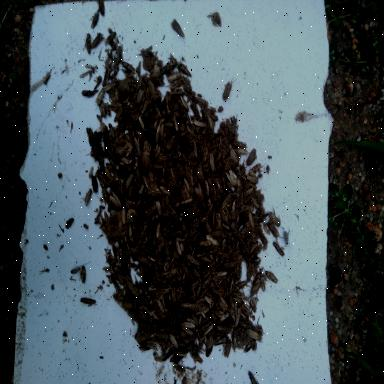pbw: (171, 19, 185, 38), (90, 33, 106, 49), (186, 311, 202, 327), (272, 239, 286, 257), (266, 220, 280, 238), (179, 321, 195, 335), (136, 254, 152, 268), (122, 57, 136, 73), (158, 284, 172, 300), (95, 88, 105, 110), (80, 188, 92, 206), (264, 271, 280, 284), (110, 192, 122, 209), (226, 170, 238, 187), (223, 156, 232, 178), (202, 322, 216, 336), (180, 335, 194, 349), (142, 228, 154, 244), (122, 300, 138, 312), (124, 250, 132, 274), (186, 254, 202, 266), (166, 78, 182, 90), (164, 195, 172, 218), (195, 212, 209, 225), (188, 221, 198, 239), (97, 168, 106, 188), (244, 328, 259, 340), (222, 339, 231, 359), (88, 11, 98, 29), (125, 171, 135, 189), (182, 76, 192, 94), (246, 148, 256, 166), (238, 158, 246, 180), (84, 32, 92, 54), (145, 340, 159, 352), (164, 267, 178, 279), (144, 204, 156, 218), (247, 170, 259, 184), (108, 158, 120, 172), (104, 31, 116, 45), (244, 338, 256, 352), (206, 234, 220, 246), (168, 333, 178, 349), (246, 262, 254, 282), (102, 67, 110, 87), (142, 138, 150, 158), (258, 230, 268, 246), (166, 135, 176, 151), (180, 95, 190, 111), (251, 163, 267, 173), (202, 274, 212, 290), (239, 304, 252, 316), (122, 94, 135, 106), (195, 96, 208, 108), (168, 71, 182, 82), (154, 125, 162, 144), (98, 146, 104, 171), (167, 152, 182, 162), (220, 260, 235, 270), (184, 205, 192, 223), (181, 262, 190, 278), (147, 78, 155, 96), (196, 328, 205, 344), (136, 184, 144, 202), (91, 140, 99, 158), (162, 344, 174, 356), (192, 352, 204, 364), (80, 298, 98, 306), (236, 204, 250, 214), (235, 280, 249, 290), (190, 102, 200, 116), (128, 208, 142, 218), (160, 60, 170, 74), (112, 134, 122, 148), (248, 370, 258, 384), (195, 182, 202, 202), (108, 149, 118, 163), (141, 100, 151, 114), (222, 194, 232, 208), (104, 167, 114, 181), (249, 242, 259, 256), (109, 123, 119, 137), (165, 96, 172, 116), (250, 296, 258, 313), (217, 249, 229, 260), (219, 296, 230, 308), (86, 127, 96, 140), (158, 186, 171, 196), (145, 316, 153, 332), (231, 222, 239, 238), (182, 294, 198, 302), (82, 90, 98, 98), (123, 282, 131, 298), (230, 148, 238, 164), (136, 89, 144, 105), (207, 115, 215, 131), (211, 288, 227, 296), (226, 118, 234, 134), (168, 230, 184, 238), (180, 302, 196, 310), (228, 278, 236, 294), (174, 240, 182, 256), (136, 74, 144, 90), (231, 114, 238, 132), (149, 123, 155, 144), (114, 108, 123, 122), (220, 208, 229, 222), (124, 198, 136, 208), (146, 254, 158, 264), (210, 153, 216, 173), (120, 237, 128, 252), (138, 116, 146, 131), (116, 43, 122, 63), (175, 132, 185, 144), (138, 304, 150, 314), (104, 82, 116, 92), (204, 178, 210, 198), (228, 307, 236, 322), (200, 286, 210, 298), (210, 207, 216, 227), (128, 224, 134, 244), (103, 101, 111, 116), (250, 197, 260, 209), (156, 200, 162, 220), (122, 203, 128, 223), (149, 103, 156, 120), (253, 271, 262, 284), (125, 145, 134, 158), (214, 337, 228, 345), (183, 177, 190, 193), (234, 148, 248, 156), (98, 3, 106, 17), (153, 276, 167, 284), (198, 256, 212, 264), (216, 180, 224, 194), (170, 54, 178, 68), (136, 128, 144, 142), (163, 256, 171, 270), (154, 103, 162, 117), (214, 270, 228, 278), (198, 238, 212, 246), (154, 146, 162, 160), (150, 144, 158, 158), (134, 334, 148, 342), (139, 96, 146, 112), (232, 140, 246, 148), (140, 280, 148, 294), (157, 299, 165, 313), (248, 212, 255, 228), (147, 330, 158, 340), (122, 68, 133, 78), (243, 187, 254, 197), (204, 248, 216, 257), (118, 178, 124, 196), (232, 328, 238, 346), (156, 220, 162, 238), (92, 174, 98, 192), (201, 302, 210, 314), (192, 140, 198, 158), (65, 218, 74, 230), (125, 138, 134, 150), (188, 244, 196, 257), (194, 120, 207, 128), (167, 217, 175, 230), (184, 229, 190, 246), (260, 275, 266, 292), (214, 325, 231, 331), (141, 220, 147, 237), (220, 312, 230, 322), (192, 268, 202, 278), (251, 282, 261, 292), (217, 276, 227, 286), (150, 310, 160, 320), (225, 136, 232, 150), (205, 220, 212, 234), (225, 273, 232, 287), (152, 164, 164, 172), (202, 146, 208, 162), (235, 312, 241, 328), (210, 309, 222, 317), (234, 292, 246, 300), (212, 185, 218, 201), (178, 98, 186, 110), (174, 350, 186, 358), (148, 285, 160, 293), (124, 106, 136, 114), (128, 182, 134, 198), (134, 136, 140, 152), (232, 296, 244, 304), (180, 197, 192, 205), (157, 332, 169, 340), (170, 356, 183, 363), (207, 337, 214, 350), (225, 207, 232, 220), (191, 279, 201, 288), (173, 115, 179, 130), (216, 212, 222, 227), (210, 312, 219, 322), (172, 287, 178, 302), (125, 133, 133, 144), (134, 238, 142, 249), (180, 272, 186, 286), (230, 201, 236, 215), (238, 230, 244, 244), (114, 60, 120, 74), (114, 86, 120, 100), (219, 134, 224, 150), (222, 222, 232, 230), (169, 312, 174, 328), (210, 111, 218, 121), (231, 250, 241, 258), (214, 154, 222, 164), (120, 156, 130, 164), (134, 155, 140, 168), (180, 119, 186, 132), (206, 346, 213, 357), (144, 266, 150, 278), (154, 356, 166, 362), (214, 296, 220, 308), (174, 311, 180, 323), (44, 72, 50, 84), (142, 176, 148, 188), (172, 90, 184, 96), (110, 40, 117, 50), (238, 320, 246, 328), (204, 296, 212, 304), (118, 246, 122, 262), (160, 116, 166, 126), (164, 122, 174, 128), (168, 277, 178, 283), (175, 236, 185, 242), (153, 248, 159, 258), (196, 283, 201, 295), (186, 124, 192, 134), (222, 237, 226, 251), (88, 135, 93, 146), (136, 168, 140, 181), (190, 176, 194, 188), (96, 114, 102, 122), (131, 113, 136, 122), (236, 241, 240, 251)
